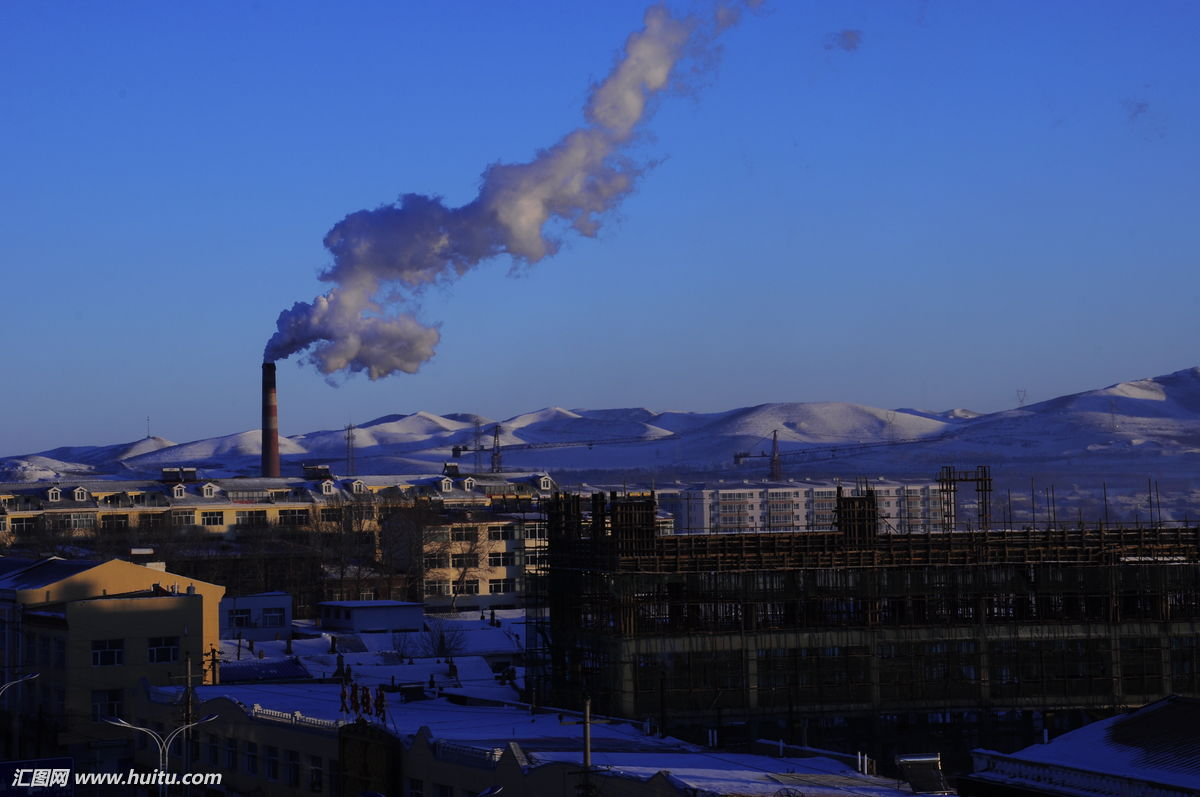dust: (258, 195, 470, 390)
